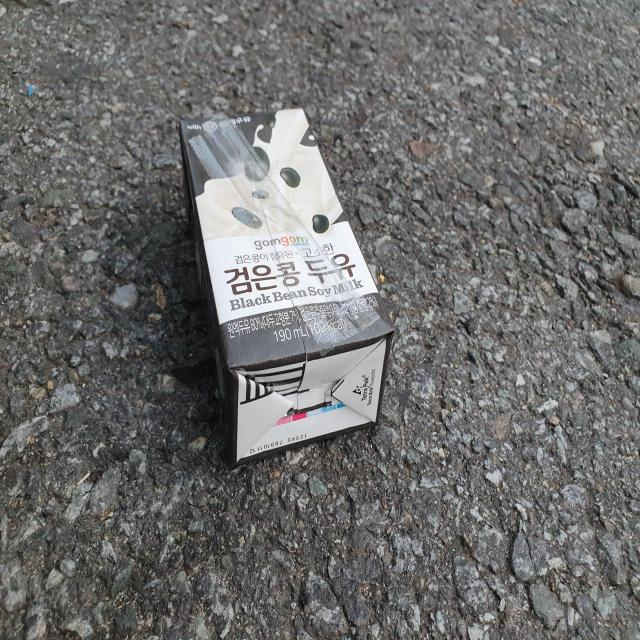paperpack: (180, 108, 393, 466)
